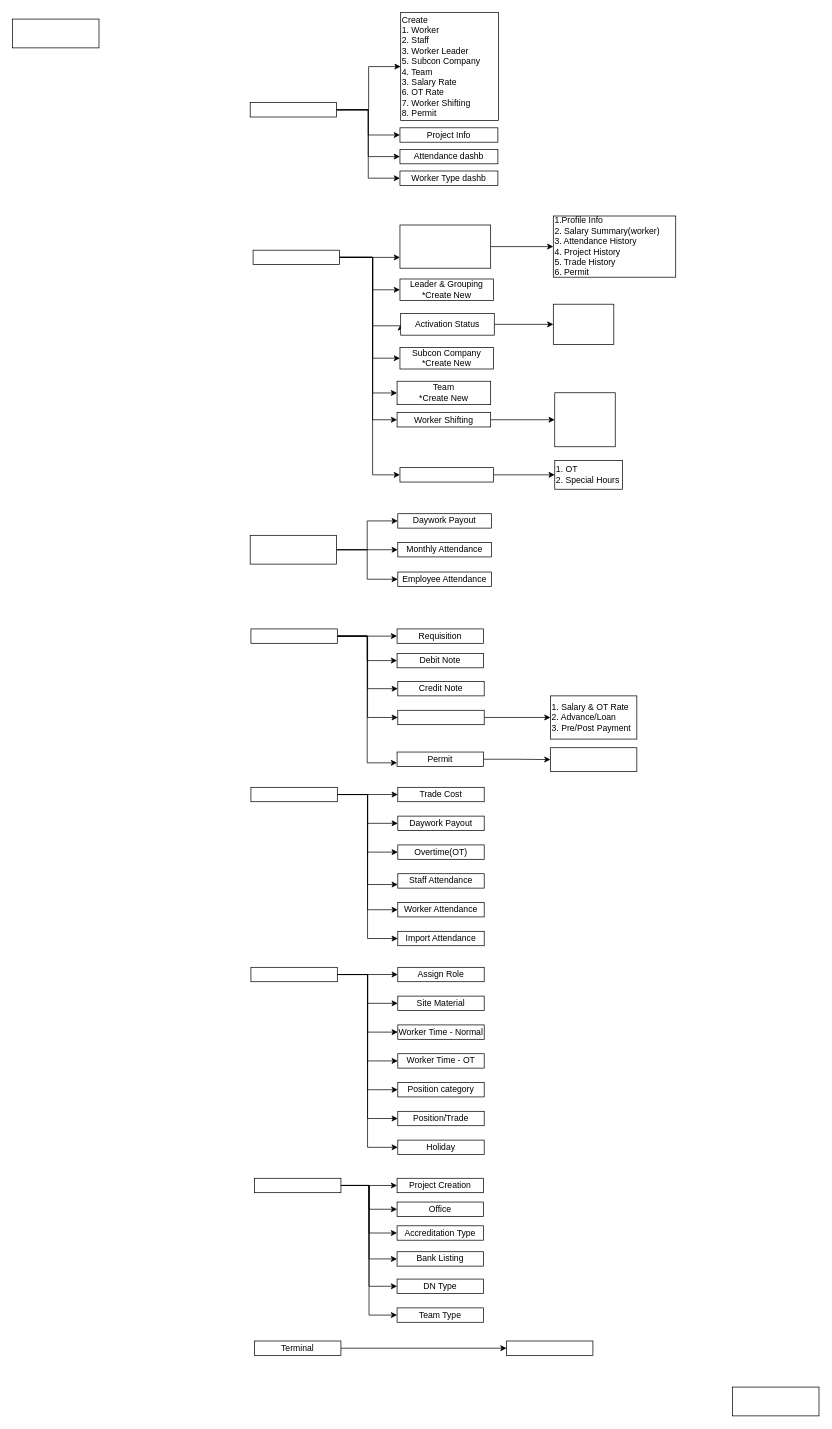
The diagram is 832 pixels wide and 1429 high, and some of its shapes have lost their labels. Here are the shapes that lost their labels. From the top down, the box of each, then its label:
(249, 102, 337, 117): Home
(252, 249, 339, 265): Workforce
(399, 224, 491, 268): Profile Listing *staff/worker *create new
(553, 303, 614, 345): Active Inactive Pending
(554, 392, 615, 447): 1. Transfer 2. Loan 3. To Sub 4. To KSK *Create New
(399, 467, 494, 482): OT/Special Hrs
(249, 535, 337, 564): Attendance & Payout
(250, 628, 337, 643): Payroll & Finance
(397, 710, 484, 725): Salary
(550, 747, 637, 771): 1. Listing 2. Payment
(250, 787, 337, 802): Reporting
(250, 967, 337, 982): Setting
(254, 1178, 341, 1193): IT Setting
(506, 1340, 593, 1355): *Terminal Listing
